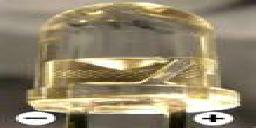LED: (22, 2, 244, 112)
